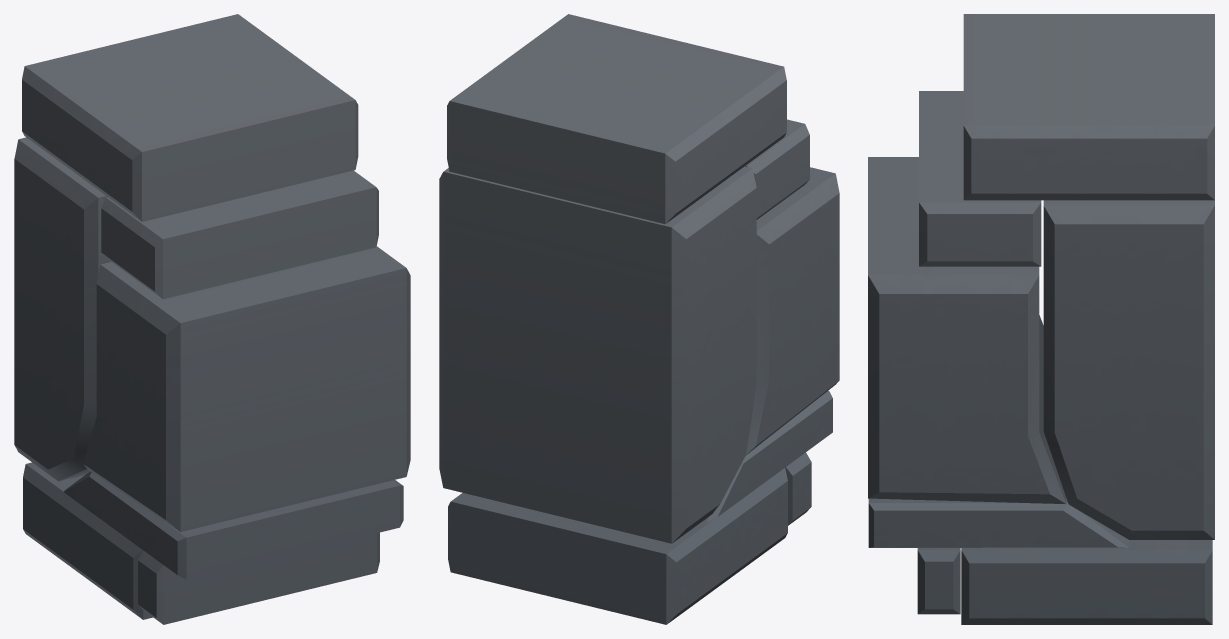
Rendered from muro1.fbx.
3 views of the same model, side by side, from view 1: azimuth 30°, elevation 25°; view 2: azimuth 150°, elevation 25°; view 3: azimuth 270°, elevation 25° (orthographic). The views are drawn at different scales.
Parts seen in each view (by area): view 1: muro3; view 2: muro3; view 3: muro3.
Part boxes in pixels (x1,y1,x2,y2): muro3: [14, 14, 410, 624]; muro3: [439, 14, 839, 624]; muro3: [868, 14, 1214, 624].
Bounding box in the file's own units: 2412 × 4405 × 2773.
